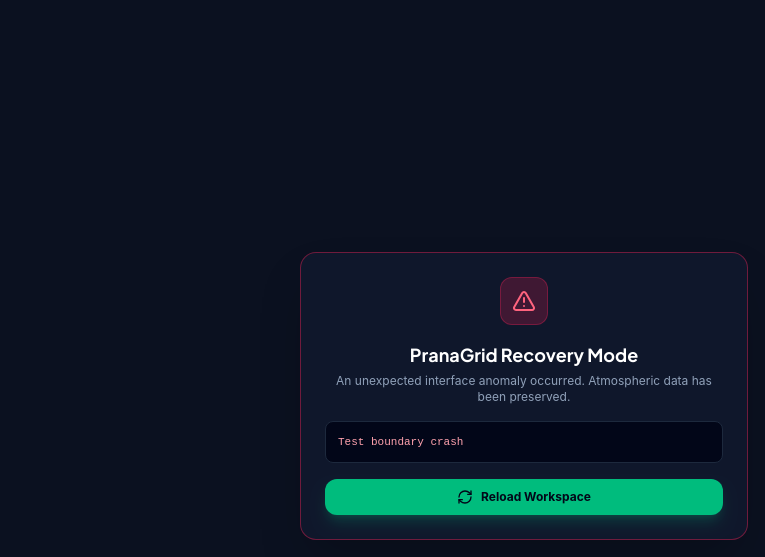
Test: ErrorBoundary Component › resets error state when clicking Reload Workspace
Expected: the heading "PranaGrid Recovery Mode" is shown, [410, 343, 638, 366]
Click the button "Reload Workspace". click: coordinates (524, 497)
box: [325, 479, 723, 515]
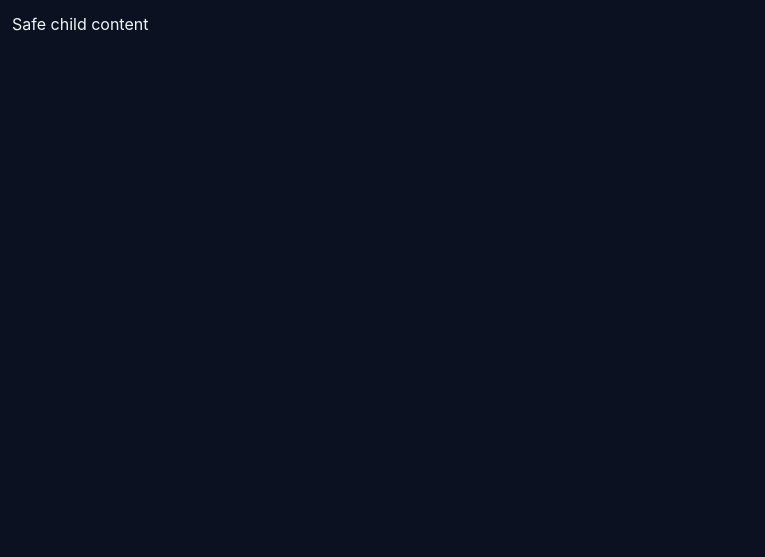
Expected: the text "Safe child content" is shown, [12, 14, 148, 34]
